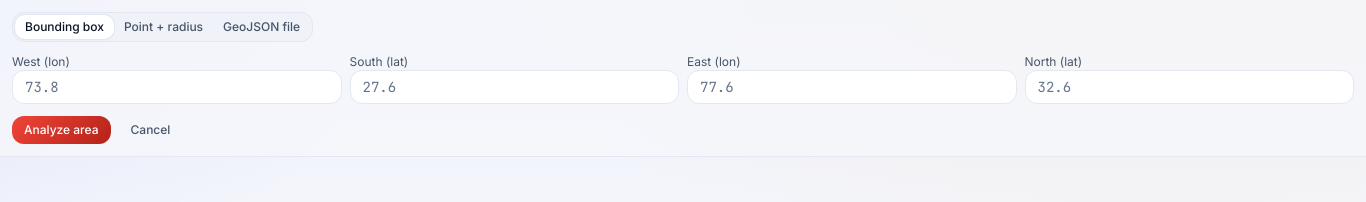
Scenario: AoiForm › validates a point and radius
Click the radio button labelled "Point + radius" at (164, 27), box [114, 15, 213, 39]
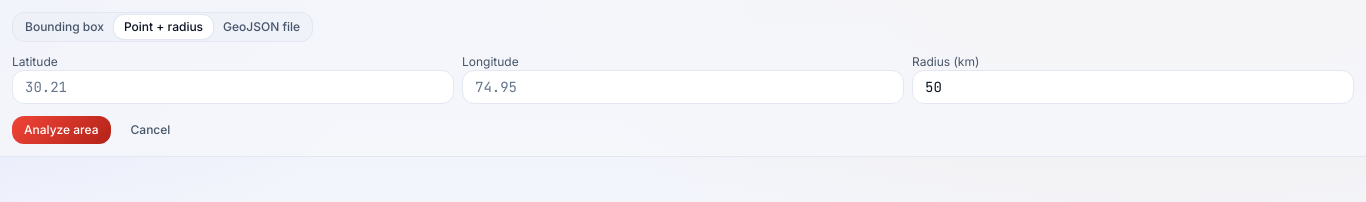
Type "30.2" into the field labelled "Latitude" at (233, 87), box [12, 70, 454, 104]
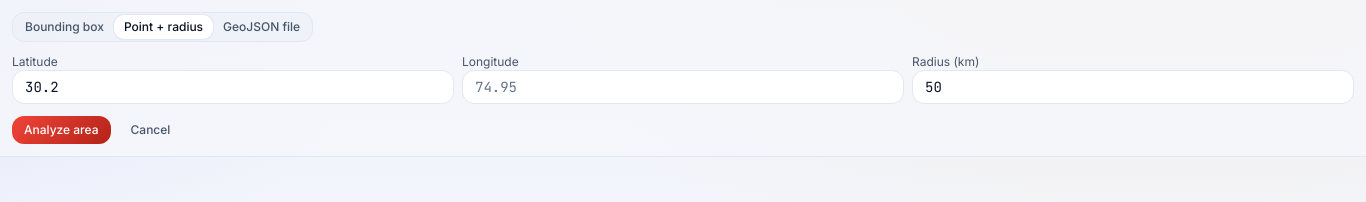
Type "75" into the field labelled "Longitude" at (683, 87), box [462, 70, 904, 104]
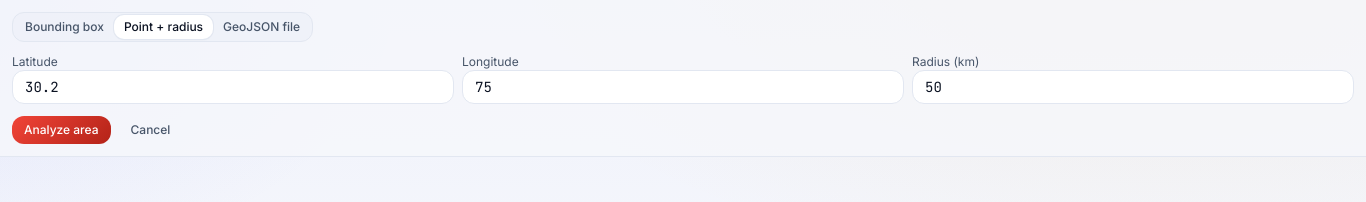
Replace the text in the field labelled "Radius (km)" with "5000" at (1133, 87), box [912, 70, 1354, 104]
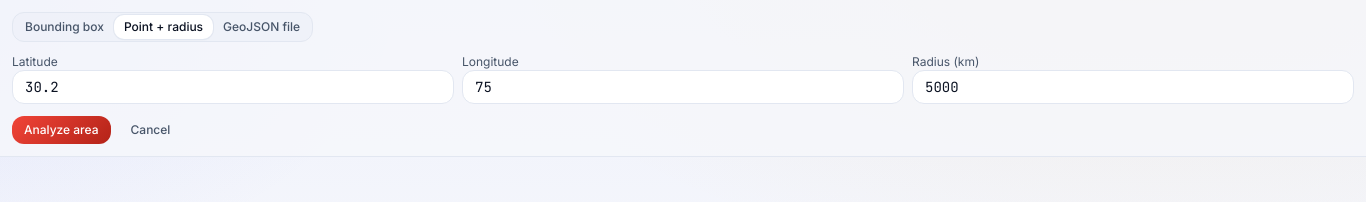
Click the button "Analyze area" at (61, 130), box [12, 116, 110, 144]
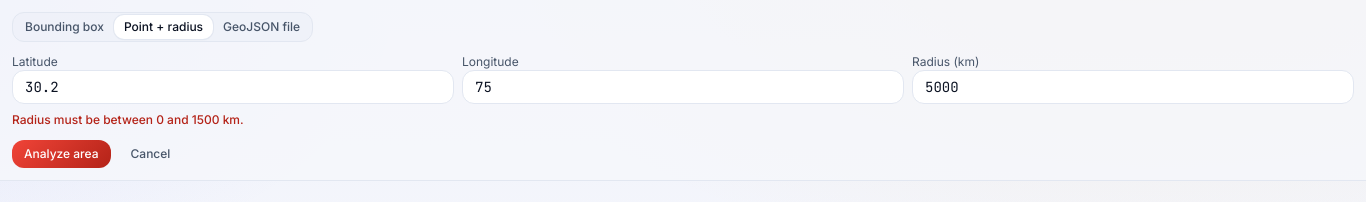
Now the message shows "Radius", box [12, 112, 244, 127]
